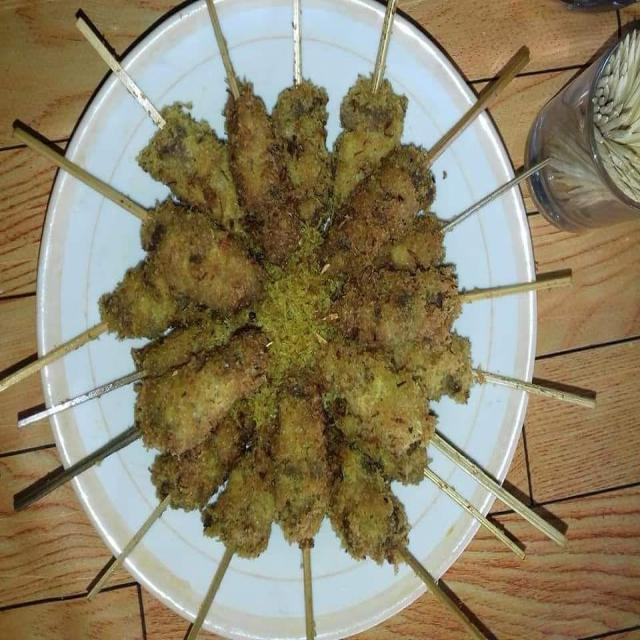Sate: (9, 16, 620, 620)
